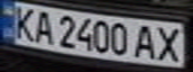0: (109, 20, 133, 56), (90, 18, 112, 54)
2: (54, 12, 78, 50)
4: (72, 16, 96, 52)
A: (130, 21, 160, 61), (30, 8, 57, 45)
K: (6, 3, 42, 42)
X: (151, 24, 187, 63)
